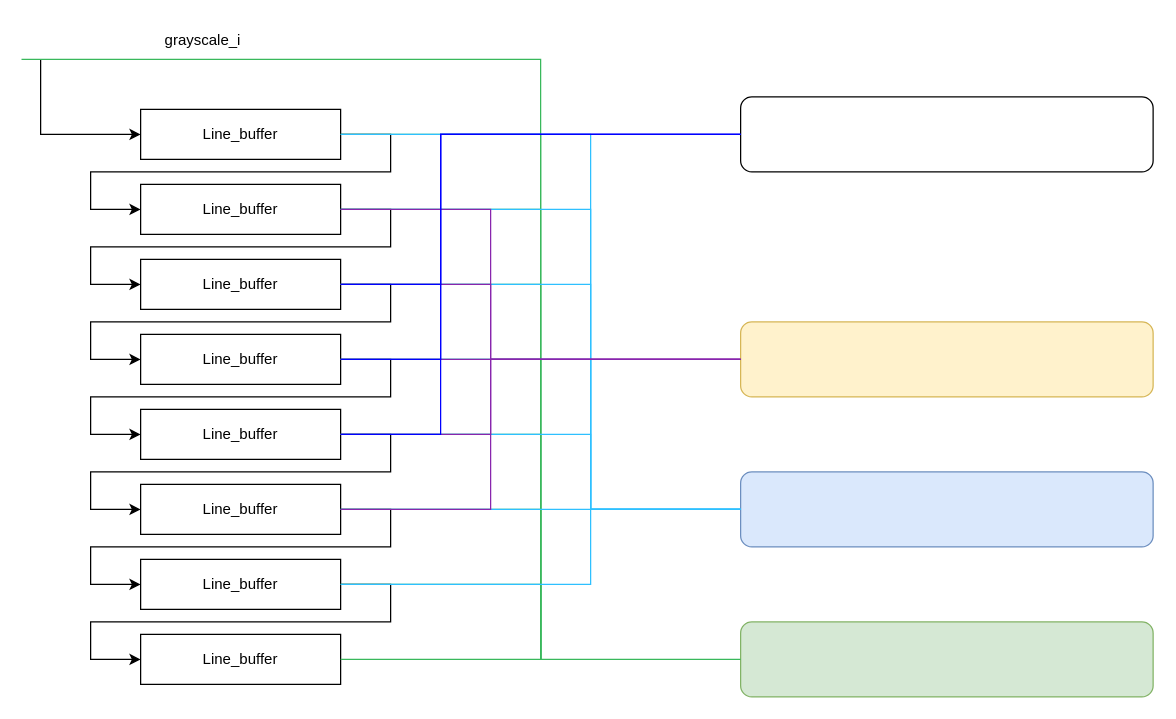
Image size: 1176x719. Some labels were removed from this diagram. The shapes that lost their labels are listed below. From the top down, each one's box as (x1, y1, x2, y2) in pixels, then its label:
(739, 96, 1153, 172): 3x3 median filtering
(739, 321, 1153, 397): 5x5 median filtering
(739, 471, 1153, 547): 7x7 median filtering
(739, 621, 1153, 697): 9x9 median filtering
